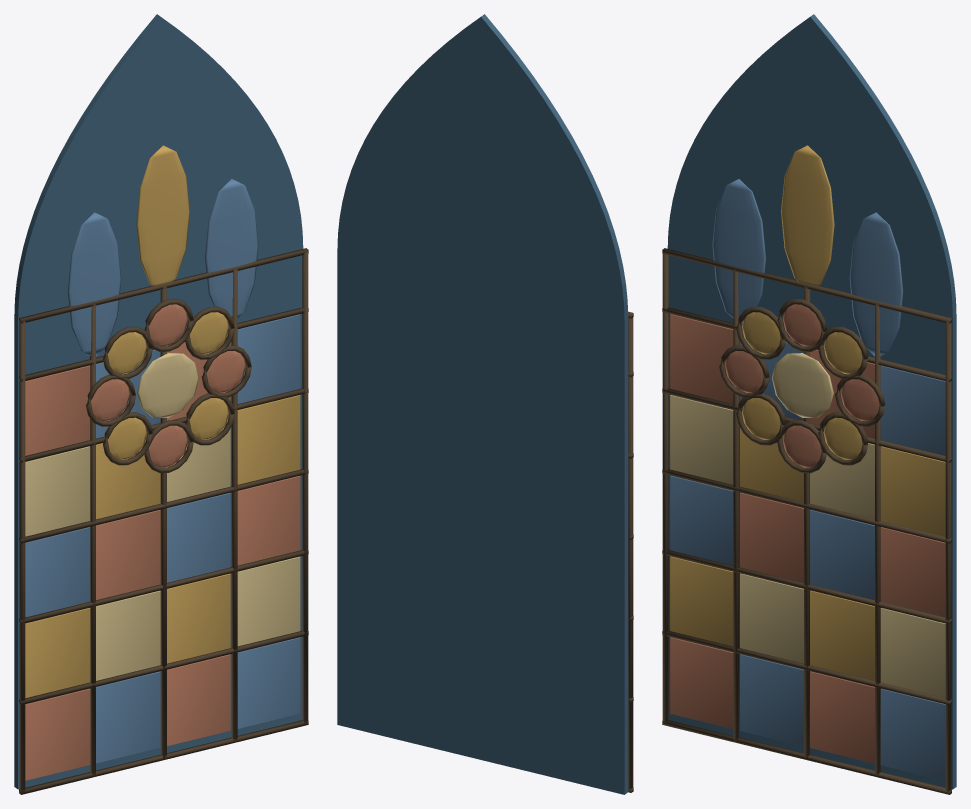
Rendered from pointed_glass.glb.
3 views of the same model, side by side, from view 1: azimuth 30°, elevation 25°; view 2: azimuth 150°, elevation 25°; view 3: azimuth 330°, elevation 25° (orthographic).
Visible parts, largest first — view 1: pointed_glass; view 2: pointed_glass; view 3: pointed_glass.
Boxes of the visible parts, left/top/right/bottom form: pointed_glass: left=14, top=14, right=308, bottom=794; pointed_glass: left=337, top=14, right=633, bottom=794; pointed_glass: left=662, top=14, right=956, bottom=794.
Bounding box in the file's own units: 1.34 × 3.3 × 0.107.
